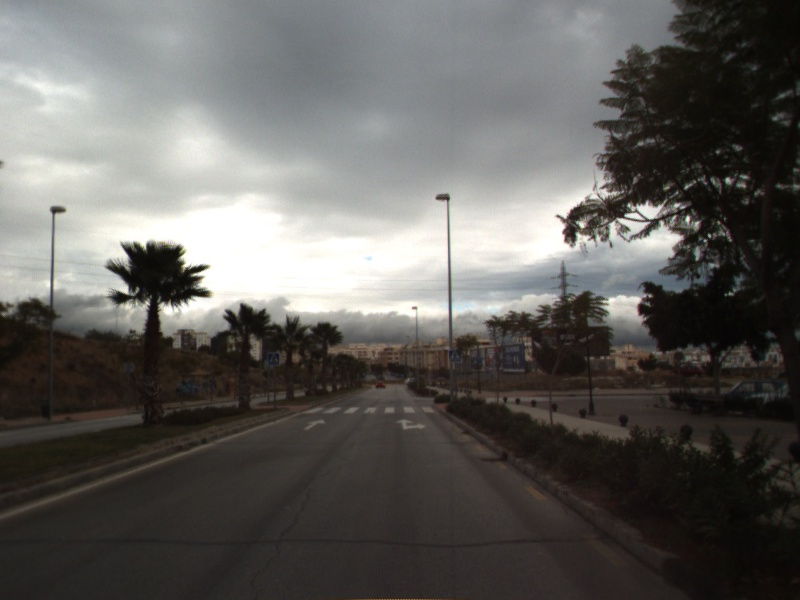STRAIGHT: (302, 417, 328, 432)
STRAIGHT_RIGHT: (393, 417, 428, 432)
